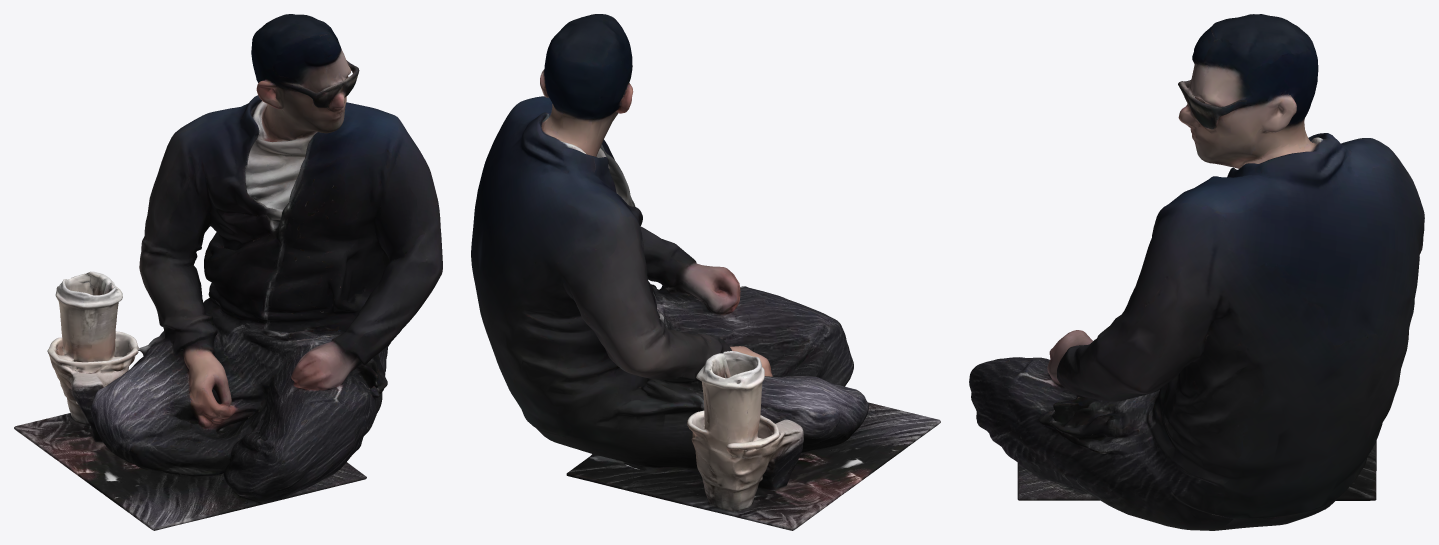
The model's file is sit.glb.
3 renders of one model, left to right at view 1: azimuth 30°, elevation 25°; view 2: azimuth 150°, elevation 25°; view 3: azimuth 270°, elevation 25°, orthographic. The views are drawn at different scales.
Visible parts, largest first — view 1: world; view 2: world; view 3: world.
Boxes of the visible parts, x1,y1,x2,y2 form: world: (14, 14, 442, 530); world: (471, 14, 940, 530); world: (969, 14, 1424, 530).
Size of the model in its own units: 0.9259 by 0.9995 by 0.8293.
1 material, 1 textured.
